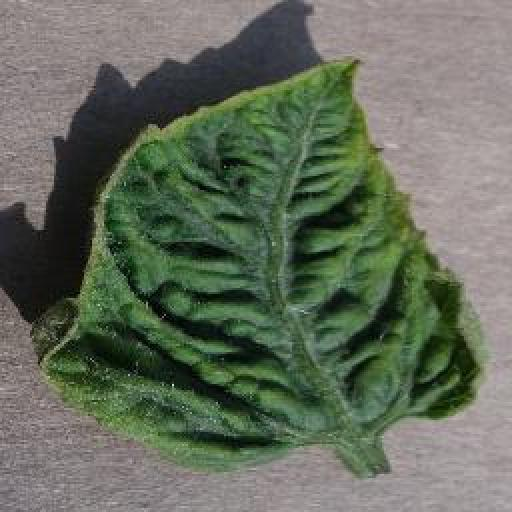disease_tomato: (35, 54, 493, 476)
